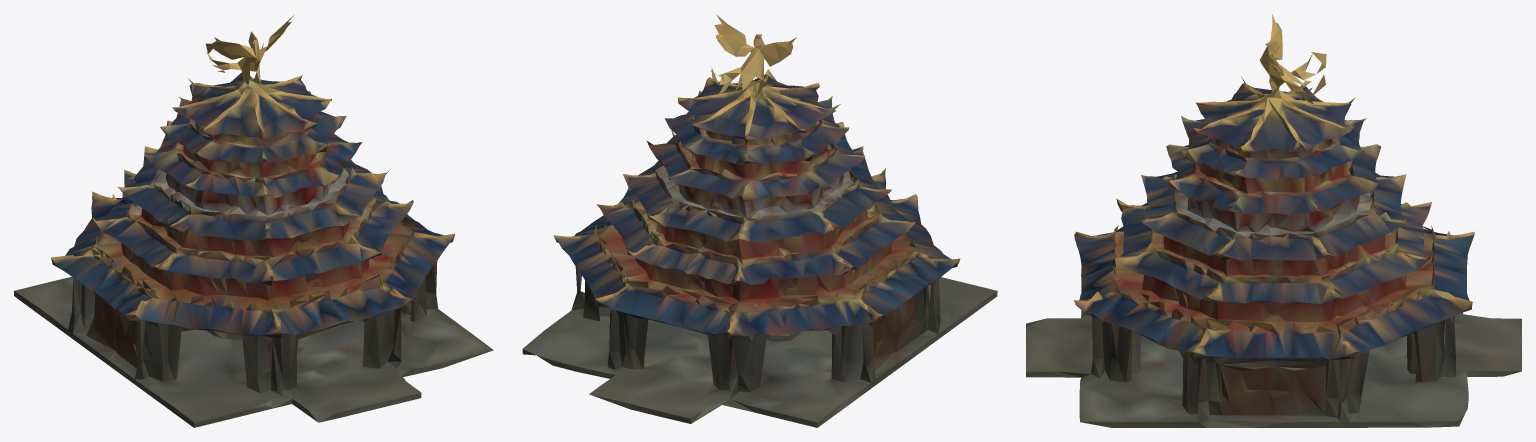
File: bq_pagoda.vc.glb
3 views of the same model, side by side, from view 1: azimuth 30°, elevation 25°; view 2: azimuth 150°, elevation 25°; view 3: azimuth 270°, elevation 25° (orthographic). The views are drawn at different scales.
Visible parts, largest first — view 1: bq_pagoda; view 2: bq_pagoda; view 3: bq_pagoda.
Part boxes in pixels (x1=…): bq_pagoda: x1=14, y1=15, x2=493, y2=427; bq_pagoda: x1=522, y1=14, x2=997, y2=427; bq_pagoda: x1=1026, y1=14, x2=1521, y2=427.
Bounding box in the file's own units: 1.54 × 1.35 × 1.9.
